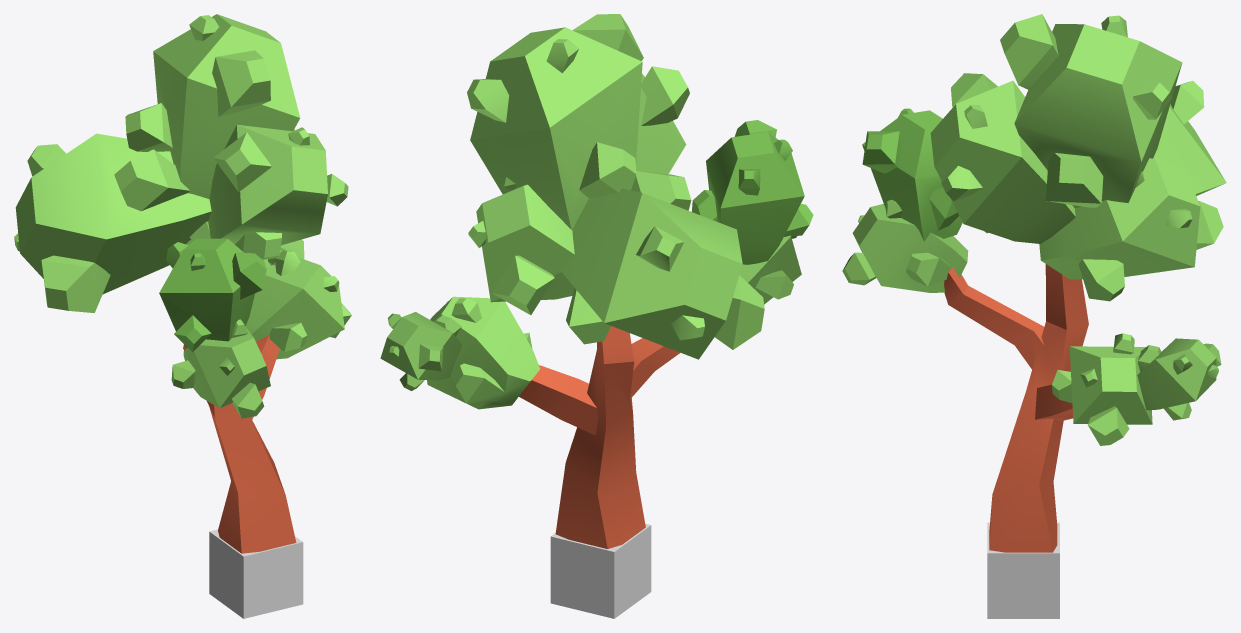
The model's file is tree.glb.
3 renders of one model, left to right at view 1: azimuth 30°, elevation 25°; view 2: azimuth 150°, elevation 25°; view 3: azimuth 270°, elevation 25°, orthographic. The views are drawn at different scales.
Visible parts, largest first — view 1: Tree, Cube; view 2: Tree, Cube; view 3: Tree, Cube.
Part boxes in pixels (bbox=[...]): Tree: bbox=[14, 14, 351, 553]; Cube: bbox=[209, 529, 303, 618]; Tree: bbox=[380, 14, 813, 548]; Cube: bbox=[550, 523, 651, 618]; Tree: bbox=[842, 14, 1226, 552]; Cube: bbox=[987, 522, 1059, 618].
Bounding box in the file's own units: 10.59 × 17.73 × 10.6.
